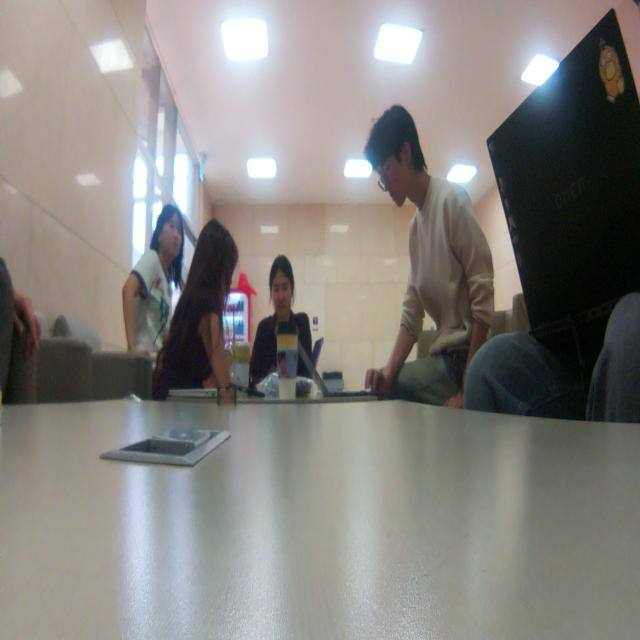target: (215, 348, 238, 410)
